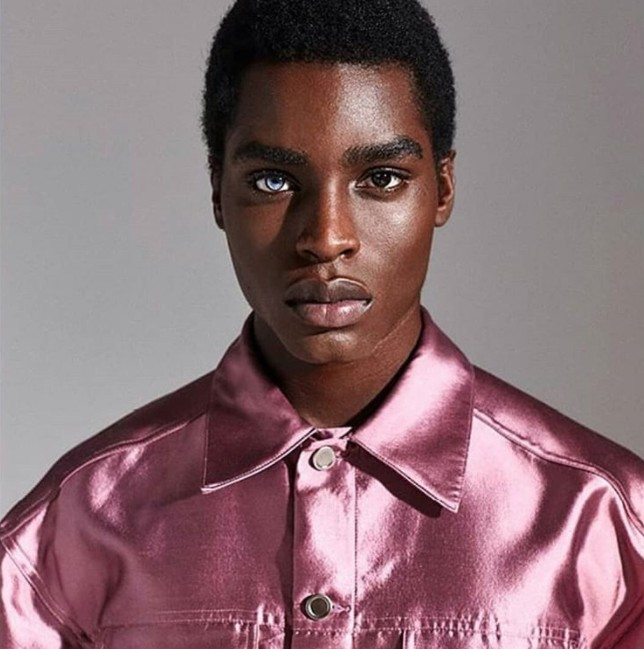without_mask: (207, 54, 461, 363)
